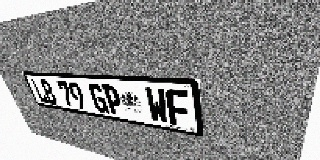7: (56, 81, 76, 108)
9: (67, 82, 88, 110)
B: (39, 80, 59, 105)
F: (165, 89, 191, 128)
G: (87, 83, 110, 114)
L: (30, 79, 49, 103)
P: (101, 84, 124, 116)
W: (144, 87, 170, 124)
